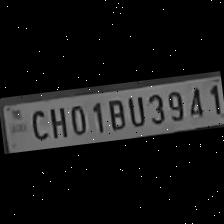0: (66, 101, 90, 136)
1: (86, 98, 107, 134), (204, 81, 222, 116)
3: (144, 90, 166, 127)
4: (182, 82, 205, 120)
9: (162, 86, 184, 123)
B: (102, 96, 126, 132)
C: (25, 106, 49, 142)
H: (44, 102, 68, 140)
U: (125, 92, 147, 128)
